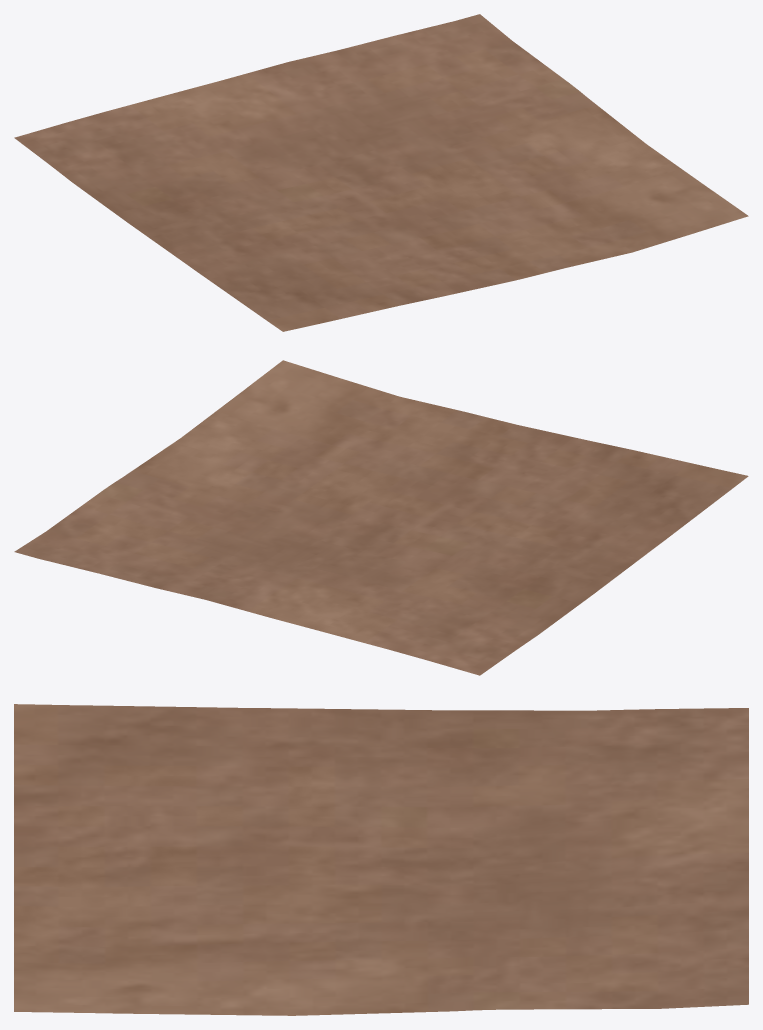
3 renders of one model, top to bottom at view 1: azimuth 30°, elevation 25°; view 2: azimuth 150°, elevation 25°; view 3: azimuth 270°, elevation 25°, orthographic. The views are drawn at different scales.
Bounding box in the file's own units: 64 × 1.89 × 64.
1 material, 1 textured.
